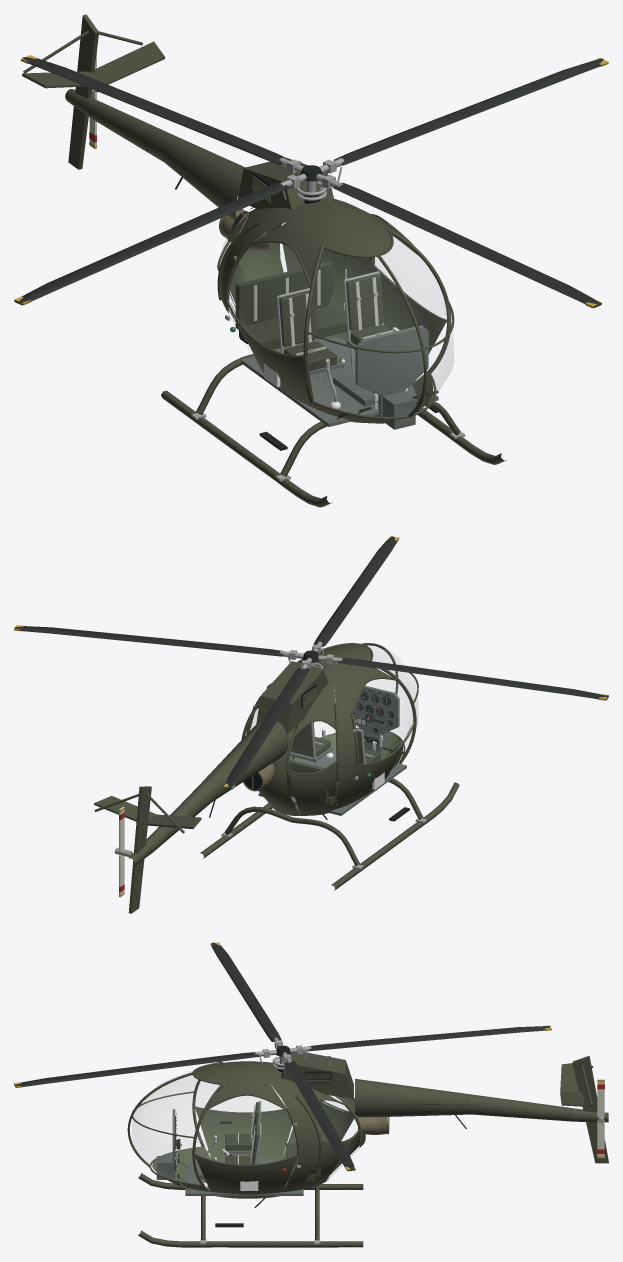
3 renders of one model, top to bottom at view 1: azimuth 30°, elevation 25°; view 2: azimuth 150°, elevation 25°; view 3: azimuth 270°, elevation 25°, orthographic. The views are drawn at different scales.
Parts seen in each view (by area): view 1: rotor-airfoil (×4), cabin-panels, cabin-interior, tail-boom, instrument-panel, glazing-upright, aft-seat-back, floor, seat-back (×2), tail-fin, transmission-fairing, skid--1 (+10 smaller); view 2: cabin-panels, rotor-airfoil (×4), tail-boom, transmission-fairing, instrument-panel, glazing-upright, tail-fin, skid--1, windshield-glazing, floor, cabin-interior, tail-stabilizer--1 (+4 smaller); view 3: cabin-panels, rotor-airfoil (×4), tail-boom, cabin-interior, windshield-glazing, transmission-fairing, glazing-upright, skid-1, tail-fin, floor, door-glazing, door-seal (+4 smaller).
Boxes of the visible parts, x1=… form: rotor-airfoil (×4): x1=14, y1=57, x2=608, y2=307; cabin-panels: x1=221, y1=199, x2=418, y2=423; cabin-interior: x1=228, y1=208, x2=446, y2=417; tail-boom: x1=65, y1=89, x2=245, y2=224; instrument-panel: x1=355, y1=325, x2=428, y2=416; glazing-upright: x1=217, y1=201, x2=451, y2=417; aft-seat-back: x1=235, y1=261, x2=334, y2=329; floor: x1=241, y1=337, x2=438, y2=426; seat-back (×2): x1=279, y1=274, x2=383, y2=346; tail-fin: x1=68, y1=14, x2=99, y2=169; transmission-fairing: x1=238, y1=157, x2=334, y2=222; skid--1: x1=161, y1=390, x2=332, y2=507; cabin-panels: x1=258, y1=644, x2=404, y2=815; rotor-airfoil (×4): x1=14, y1=536, x2=608, y2=789; tail-boom: x1=128, y1=718, x2=288, y2=866; transmission-fairing: x1=256, y1=661, x2=328, y2=734; instrument-panel: x1=354, y1=685, x2=399, y2=752; glazing-upright: x1=241, y1=643, x2=416, y2=782; tail-fin: x1=128, y1=786, x2=151, y2=913; skid--1: x1=331, y1=782, x2=459, y2=890; windshield-glazing: x1=368, y1=646, x2=418, y2=726; floor: x1=258, y1=750, x2=406, y2=815; cabin-interior: x1=246, y1=713, x2=411, y2=814; tail-stabilizer--1: x1=146, y1=814, x2=201, y2=828; cabin-panels: x1=166, y1=1061, x2=365, y2=1198; rotor-airfoil (×4): x1=14, y1=942, x2=551, y2=1171; tail-boom: x1=355, y1=1079, x2=608, y2=1122; cabin-interior: x1=152, y1=1101, x2=360, y2=1182; windshield-glazing: x1=131, y1=1071, x2=200, y2=1166; transmission-fairing: x1=281, y1=1052, x2=353, y2=1098; glazing-upright: x1=127, y1=1061, x2=361, y2=1186; skid-1: x1=138, y1=1230, x2=363, y2=1247; tail-fin: x1=572, y1=1055, x2=608, y2=1163; floor: x1=185, y1=1158, x2=303, y2=1195; door-glazing: x1=209, y1=1096, x2=283, y2=1112; door-seal: x1=195, y1=1094, x2=298, y2=1166.
Size of what is drawn, in the model's own units: 7.83 by 2.73 by 8.66.
Materials: 35 (14 with a texture image).
